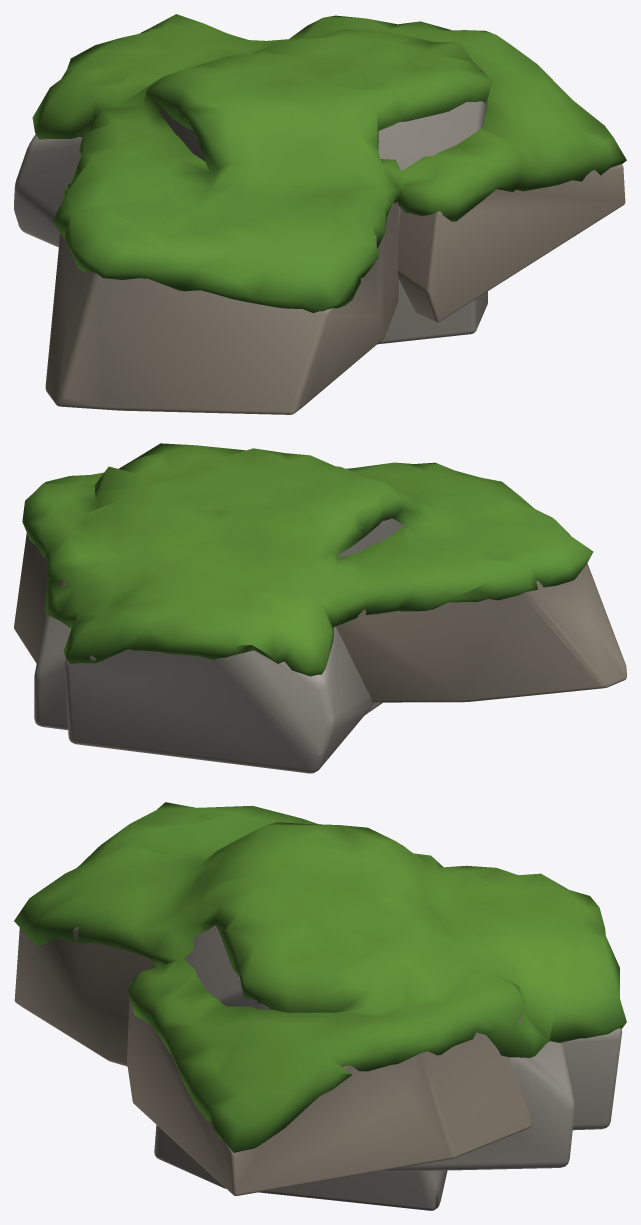
File: glade_outcrop.glb
3 views of the same model, one above another, from view 1: azimuth 30°, elevation 25°; view 2: azimuth 150°, elevation 25°; view 3: azimuth 270°, elevation 25° (orthographic). The views are drawn at different scales.
Visible parts, largest first — view 1: moss, glade_outcrop; view 2: moss, glade_outcrop; view 3: moss, glade_outcrop.
Part boxes in pixels (box(x1,y1,x2,y2)): moss: box(32, 14, 626, 313); glade_outcrop: box(14, 97, 625, 414); moss: box(22, 443, 593, 676); glade_outcrop: box(14, 518, 626, 773); moss: box(14, 802, 626, 1152); glade_outcrop: box(14, 925, 622, 1210).
Size of the model in its own units: 9.34 by 3.73 by 8.05.
